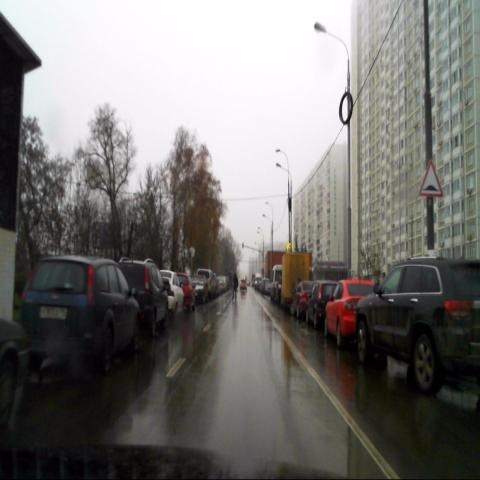1_17: (419, 158, 444, 197)
